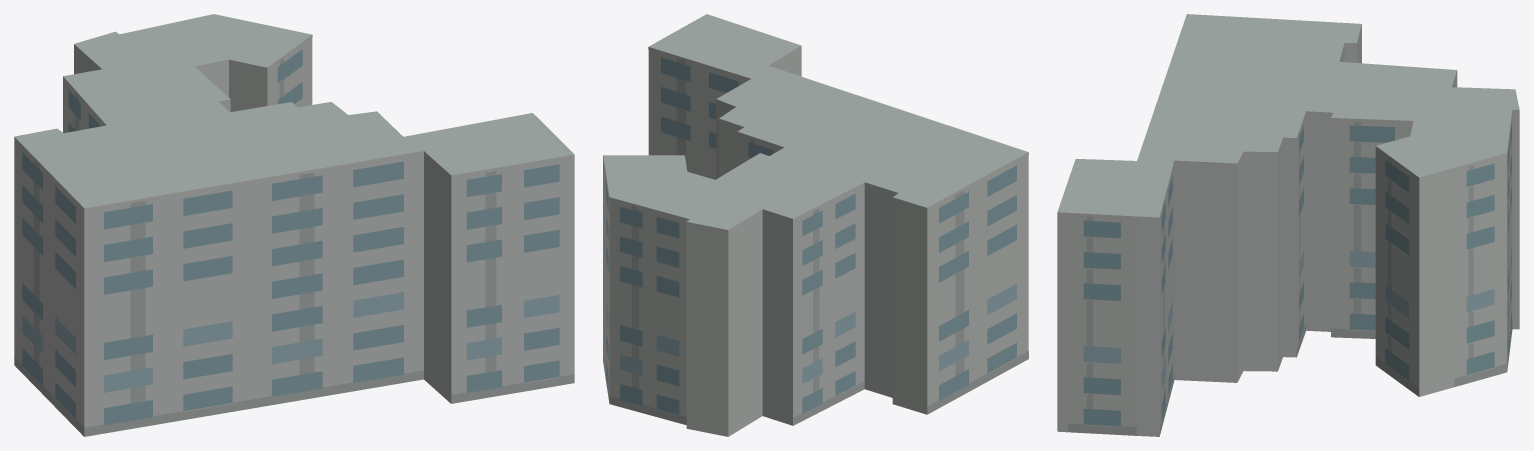
File: survey-upis-32913096.glb
3 renders of one model, left to right at view 1: azimuth 30°, elevation 25°; view 2: azimuth 150°, elevation 25°; view 3: azimuth 270°, elevation 25°, orthographic. The views are drawn at different scales.
Visible parts, largest first — view 1: survey-upis-32913096.tmp; view 2: survey-upis-32913096.tmp; view 3: survey-upis-32913096.tmp.
Part boxes in pixels (x1=…): survey-upis-32913096.tmp: x1=14, y1=14, x2=574, y2=436; survey-upis-32913096.tmp: x1=603, y1=14, x2=1028, y2=436; survey-upis-32913096.tmp: x1=1057, y1=14, x2=1519, y2=436.
Size of the model in its own units: 36.79 by 18.5 by 35.33.
